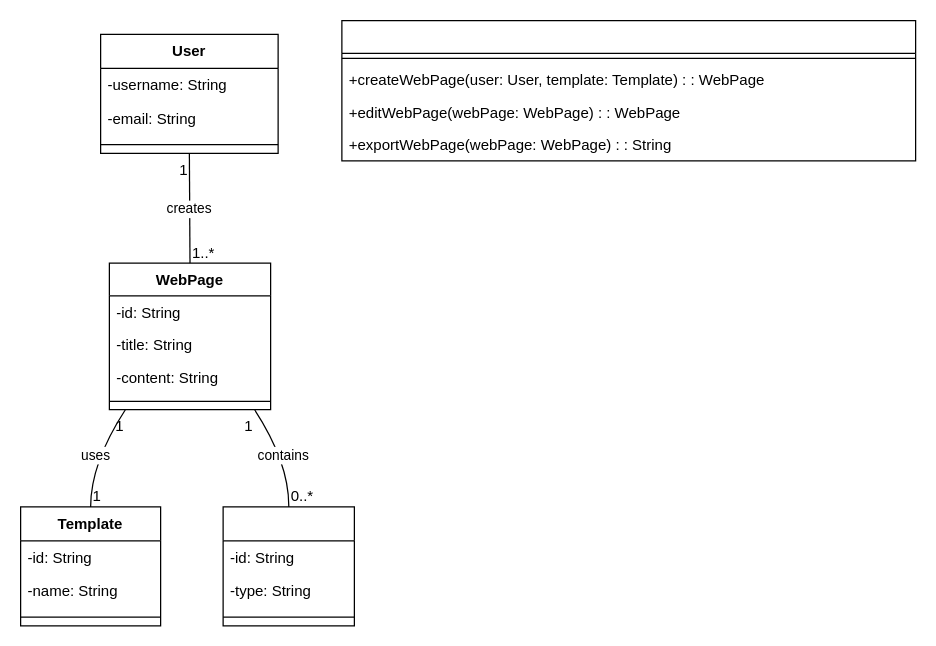
Image size: 936x646. Some labels were removed from this diagram. The box of each missing label's shape, as (x1, y1, x2, y2) in pixels:
Multimedia: (222, 506, 354, 626)
WebPageGenerator: (341, 19, 916, 161)
